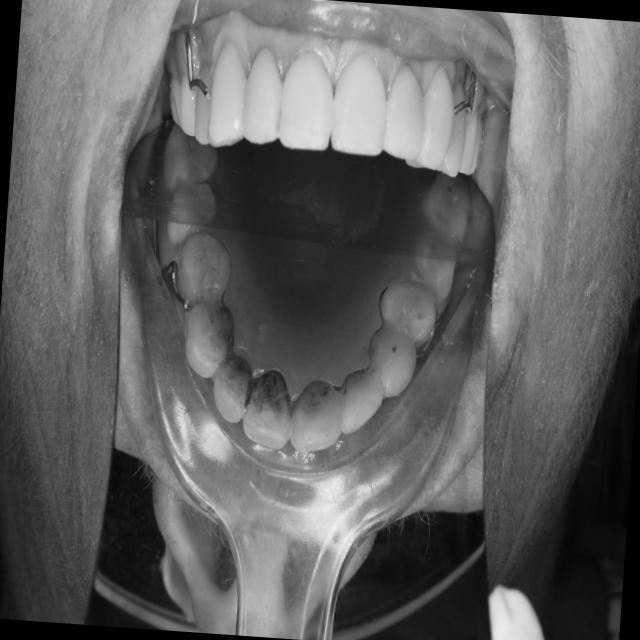tooth: (238, 354, 297, 462), (170, 221, 236, 313), (176, 291, 239, 383), (373, 267, 441, 352), (156, 115, 224, 195), (361, 317, 420, 401), (161, 171, 222, 249), (289, 372, 346, 455), (415, 162, 477, 238), (206, 339, 256, 431), (408, 225, 462, 307), (335, 359, 387, 442)
